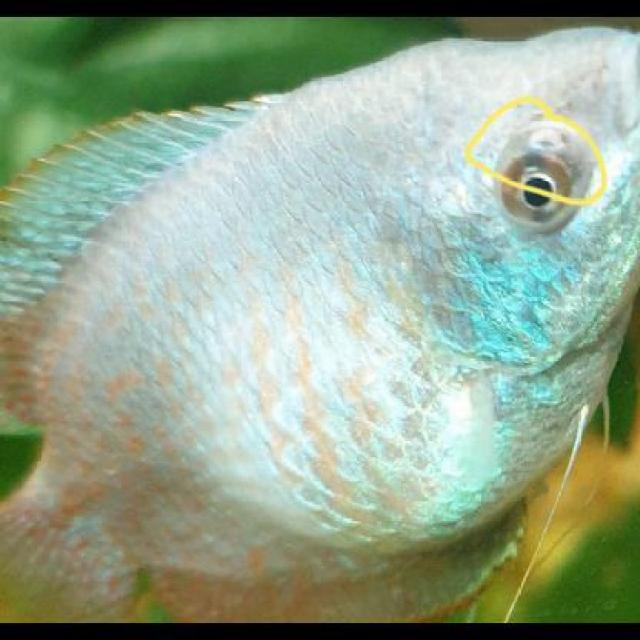Gourami: (0, 29, 638, 623)
